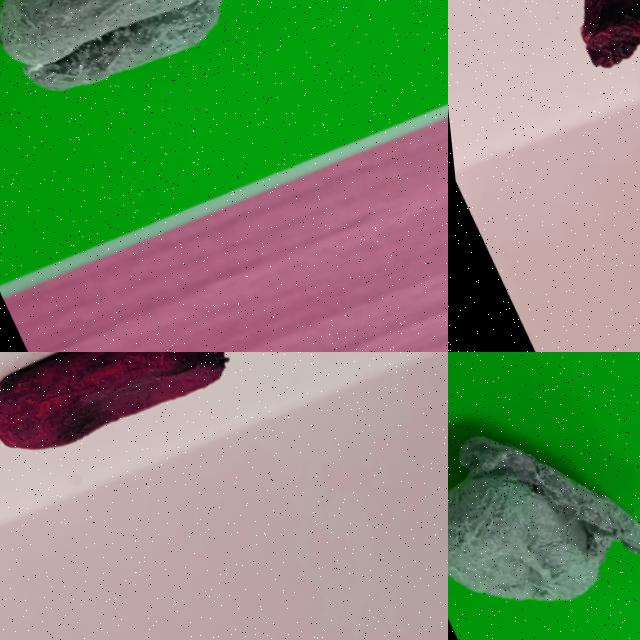Agglomerated_cocoabeans: (0, 0, 353, 168), (448, 352, 639, 639)
Flat_cocoabeans: (0, 352, 292, 487), (492, 0, 639, 126)
